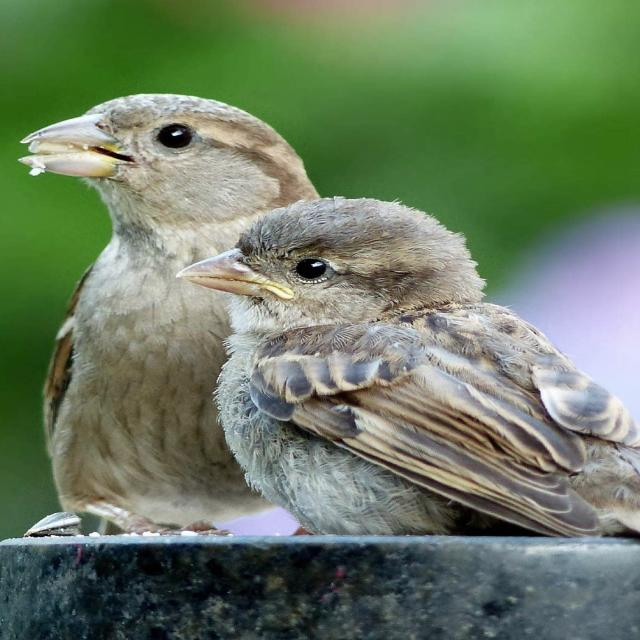sparrow: (178, 197, 640, 536), (21, 94, 320, 534)
